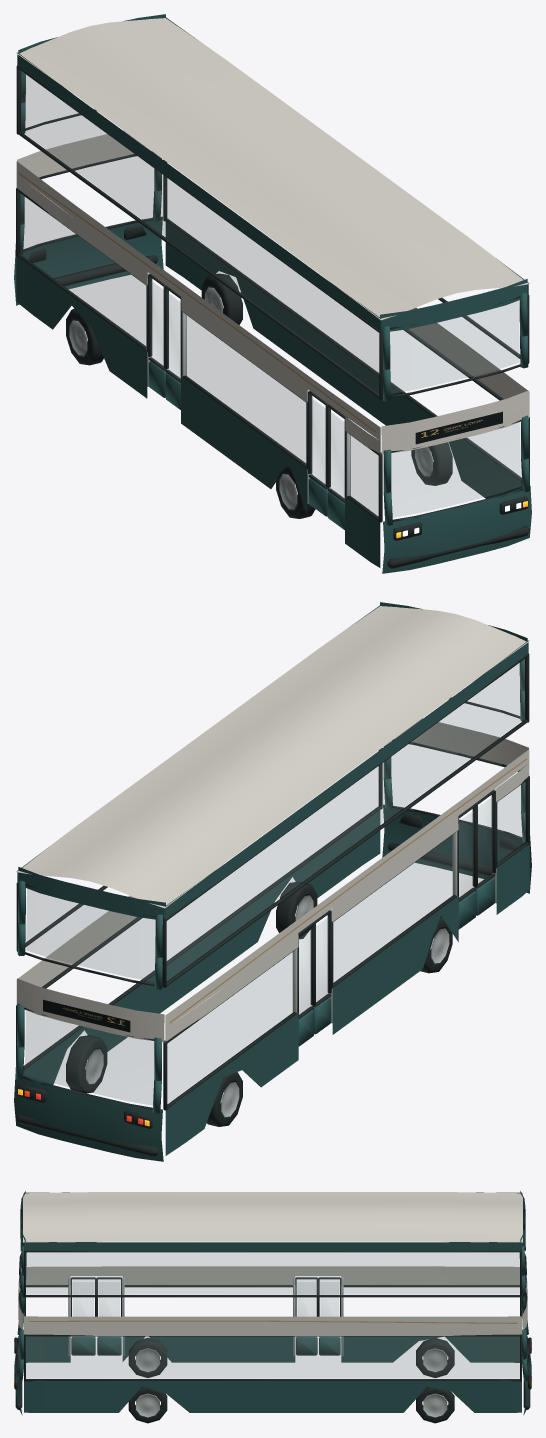
File: serein-d11-lod2.glb
3 renders of one model, top to bottom at view 1: azimuth 30°, elevation 25°; view 2: azimuth 150°, elevation 25°; view 3: azimuth 270°, elevation 25°, orthographic. The views are drawn at different scales.
Visible parts, largest first — view 1: LOD2-unselected-authoring-1218-pearl-batch, LOD2-unselected-authoring-1218-glass-batch, LOD2-unselected-authoring-1218-paintFar-batch, LOD2-unselected-authoring-1218-dark-batch, LOD2-unselected-authoring-1123-glass-batch, LOD2-unselected-authoring-1268-glass-batch, LOD2-unselected-authoring-1218-display-batch, LOD2-unselected-authoring-1351-dark-batch, LOD2-unselected-authoring-1356-dark-batch, LOD2-unselected-authoring-1244-glass-batch, LOD2-unselected-authoring-1334-glass-batch, LOD2-unselected-authoring-1354-dark-batch (+5 smaller); view 2: LOD2-unselected-authoring-1218-pearl-batch, LOD2-unselected-authoring-1218-glass-batch, LOD2-unselected-authoring-1218-paintFar-batch, LOD2-unselected-authoring-1218-dark-batch, LOD2-unselected-authoring-1356-dark-batch, LOD2-unselected-authoring-1123-glass-batch, LOD2-unselected-authoring-1268-glass-batch, LOD2-unselected-authoring-1351-dark-batch, LOD2-unselected-authoring-1218-display-batch, LOD2-unselected-authoring-1244-glass-batch, LOD2-unselected-authoring-1334-glass-batch, LOD2-unselected-authoring-1218-metal-batch (+3 smaller); view 3: LOD2-unselected-authoring-1218-pearl-batch, LOD2-unselected-authoring-1218-glass-batch, LOD2-unselected-authoring-1218-paintFar-batch, LOD2-unselected-authoring-1218-dark-batch, LOD2-unselected-authoring-1218-livery-batch, LOD2-unselected-authoring-1347-dark-batch, LOD2-unselected-authoring-1354-dark-batch, LOD2-unselected-authoring-1356-dark-batch, LOD2-unselected-authoring-1123-glass-batch, LOD2-unselected-authoring-1268-glass-batch, LOD2-unselected-authoring-1351-dark-batch, LOD2-unselected-authoring-1218-metal-batch (+10 smaller).
Boxes of the visible parts, x1,y1,x2,y2 form: LOD2-unselected-authoring-1218-pearl-batch: (16,18,529,454); LOD2-unselected-authoring-1218-glass-batch: (20,72,521,517); LOD2-unselected-authoring-1218-paintFar-batch: (14,14,531,573); LOD2-unselected-authoring-1218-dark-batch: (16,65,529,568); LOD2-unselected-authoring-1123-glass-batch: (311,398,325,485); LOD2-unselected-authoring-1268-glass-batch: (330,412,344,498); LOD2-unselected-authoring-1218-display-batch: (415,411,502,444); LOD2-unselected-authoring-1351-dark-batch: (411,442,452,485); LOD2-unselected-authoring-1356-dark-batch: (201,273,242,324); LOD2-unselected-authoring-1244-glass-batch: (151,281,163,366); LOD2-unselected-authoring-1334-glass-batch: (168,293,180,378); LOD2-unselected-authoring-1354-dark-batch: (66,308,103,365); LOD2-unselected-authoring-1218-pearl-batch: (16,606,529,1042); LOD2-unselected-authoring-1218-glass-batch: (24,660,525,1105); LOD2-unselected-authoring-1218-paintFar-batch: (14,602,531,1161); LOD2-unselected-authoring-1218-dark-batch: (16,653,529,1156); LOD2-unselected-authoring-1356-dark-batch: (66,1035,107,1093); LOD2-unselected-authoring-1123-glass-batch: (459,811,473,898); LOD2-unselected-authoring-1268-glass-batch: (478,797,492,884); LOD2-unselected-authoring-1351-dark-batch: (276,881,317,939); LOD2-unselected-authoring-1218-display-batch: (43,999,130,1032); LOD2-unselected-authoring-1244-glass-batch: (299,930,311,1015); LOD2-unselected-authoring-1334-glass-batch: (316,918,328,1003); LOD2-unselected-authoring-1218-metal-batch: (292,788,496,1023); LOD2-unselected-authoring-1218-pearl-batch: (18,1192,527,1335); LOD2-unselected-authoring-1218-glass-batch: (18,1246,527,1378); LOD2-unselected-authoring-1218-paintFar-batch: (14,1191,531,1415); LOD2-unselected-authoring-1218-dark-batch: (14,1206,531,1409); LOD2-unselected-authoring-1218-livery-batch: (28,1320,517,1323); LOD2-unselected-authoring-1347-dark-batch: (128,1337,167,1377); LOD2-unselected-authoring-1354-dark-batch: (416,1337,454,1378); LOD2-unselected-authoring-1356-dark-batch: (416,1386,454,1423); LOD2-unselected-authoring-1123-glass-batch: (99,1282,119,1316); LOD2-unselected-authoring-1268-glass-batch: (73,1282,93,1316); LOD2-unselected-authoring-1351-dark-batch: (128,1386,167,1423); LOD2-unselected-authoring-1218-metal-batch: (68,1277,343,1356).
Bounding box in the file's own units: 2.54 × 4.4 × 10.98.
10 materials, 1 textured.
